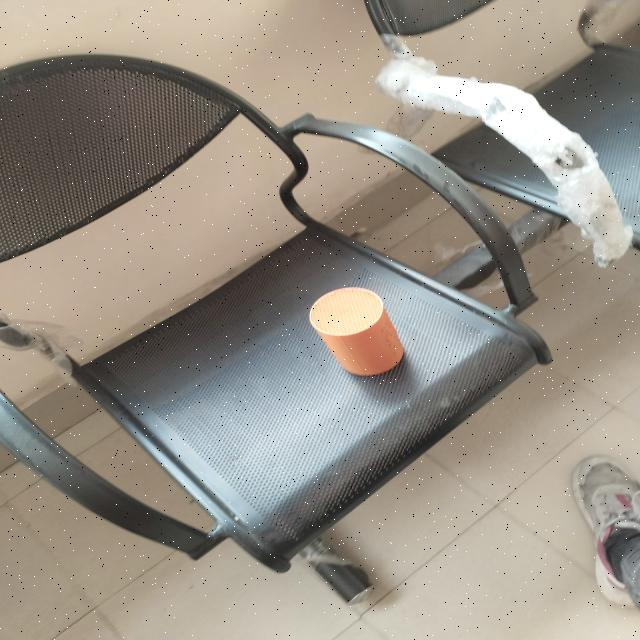Cylinder: (307, 286, 405, 376)
